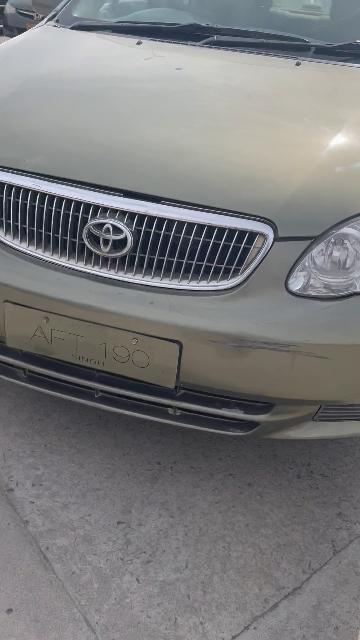plate: (4, 301, 182, 391)
